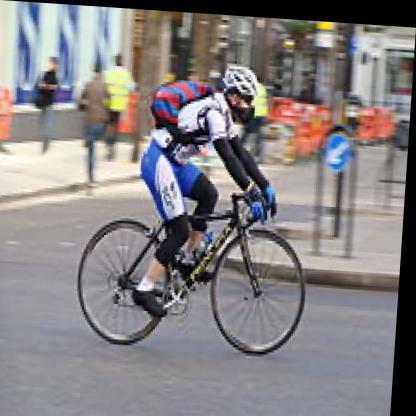With Helmet: (221, 57, 261, 122)
